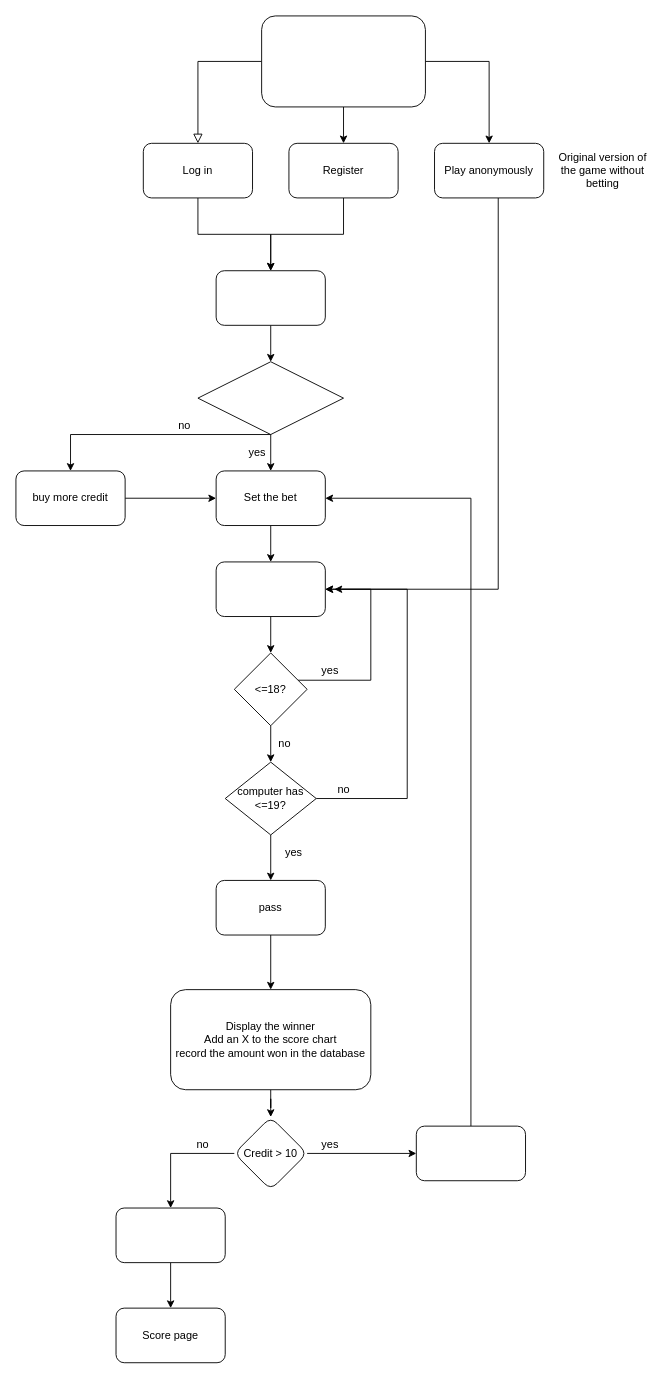
Image size: 669x1379. Some labels were removed from this diagram. Here are the shapes that lost their labels. From the top down, the box of each, then its label:
(261, 15, 425, 107): homepage contains rules of the game and description
(215, 270, 325, 325): Choose the game mode 1 vs 2 dice
(197, 361, 344, 435): Enough money to play?
(215, 561, 325, 617): Roll the dice
(415, 1125, 526, 1181): New round
(115, 1207, 225, 1263): Tally save number rounds played to DB
